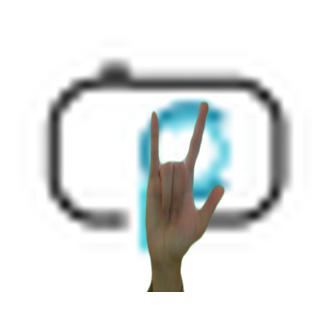ILY: (139, 98, 229, 268)
